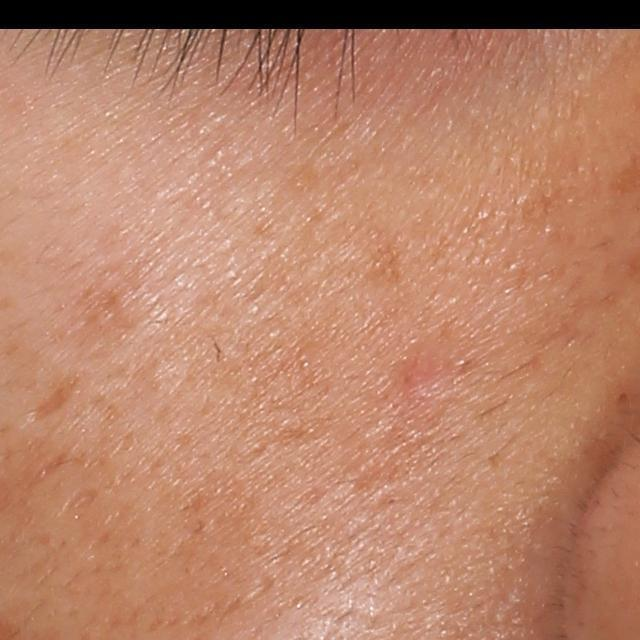atrophic_scar: (21, 382, 73, 427), (60, 487, 99, 513)
papule: (394, 358, 448, 411)
